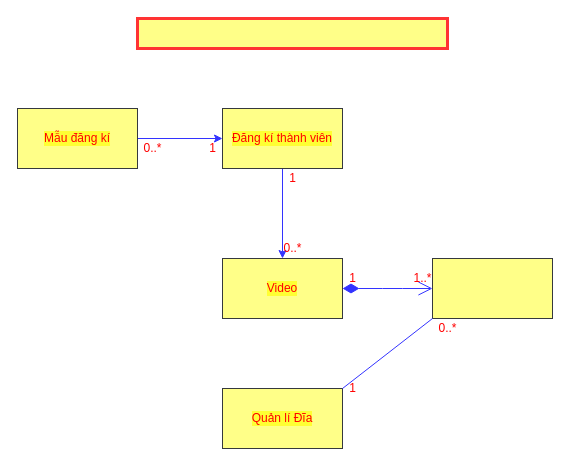
This 570x466 diagram has some shape labels left out. The centre of each missing label's shape, as x and y in pixels:
Danh Sách Video: the point at 492,288
Sơ đồ Domain của Cửa Hàng Bán Đĩa: the point at 292,33
